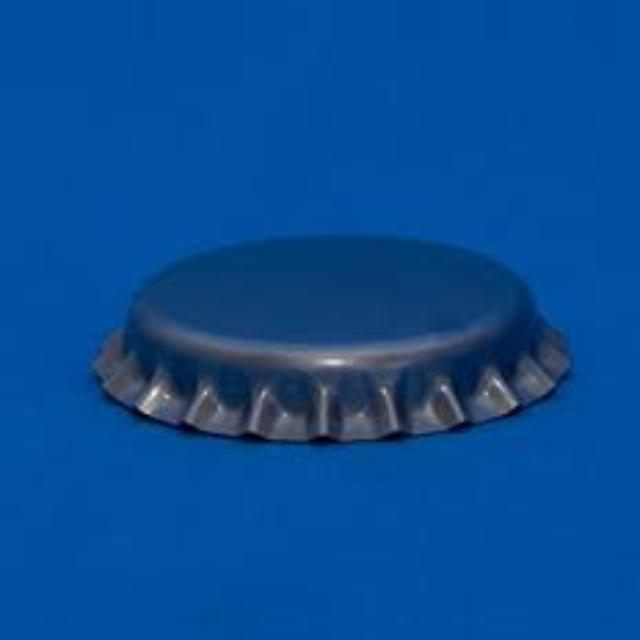Metal: (66, 228, 584, 442)
